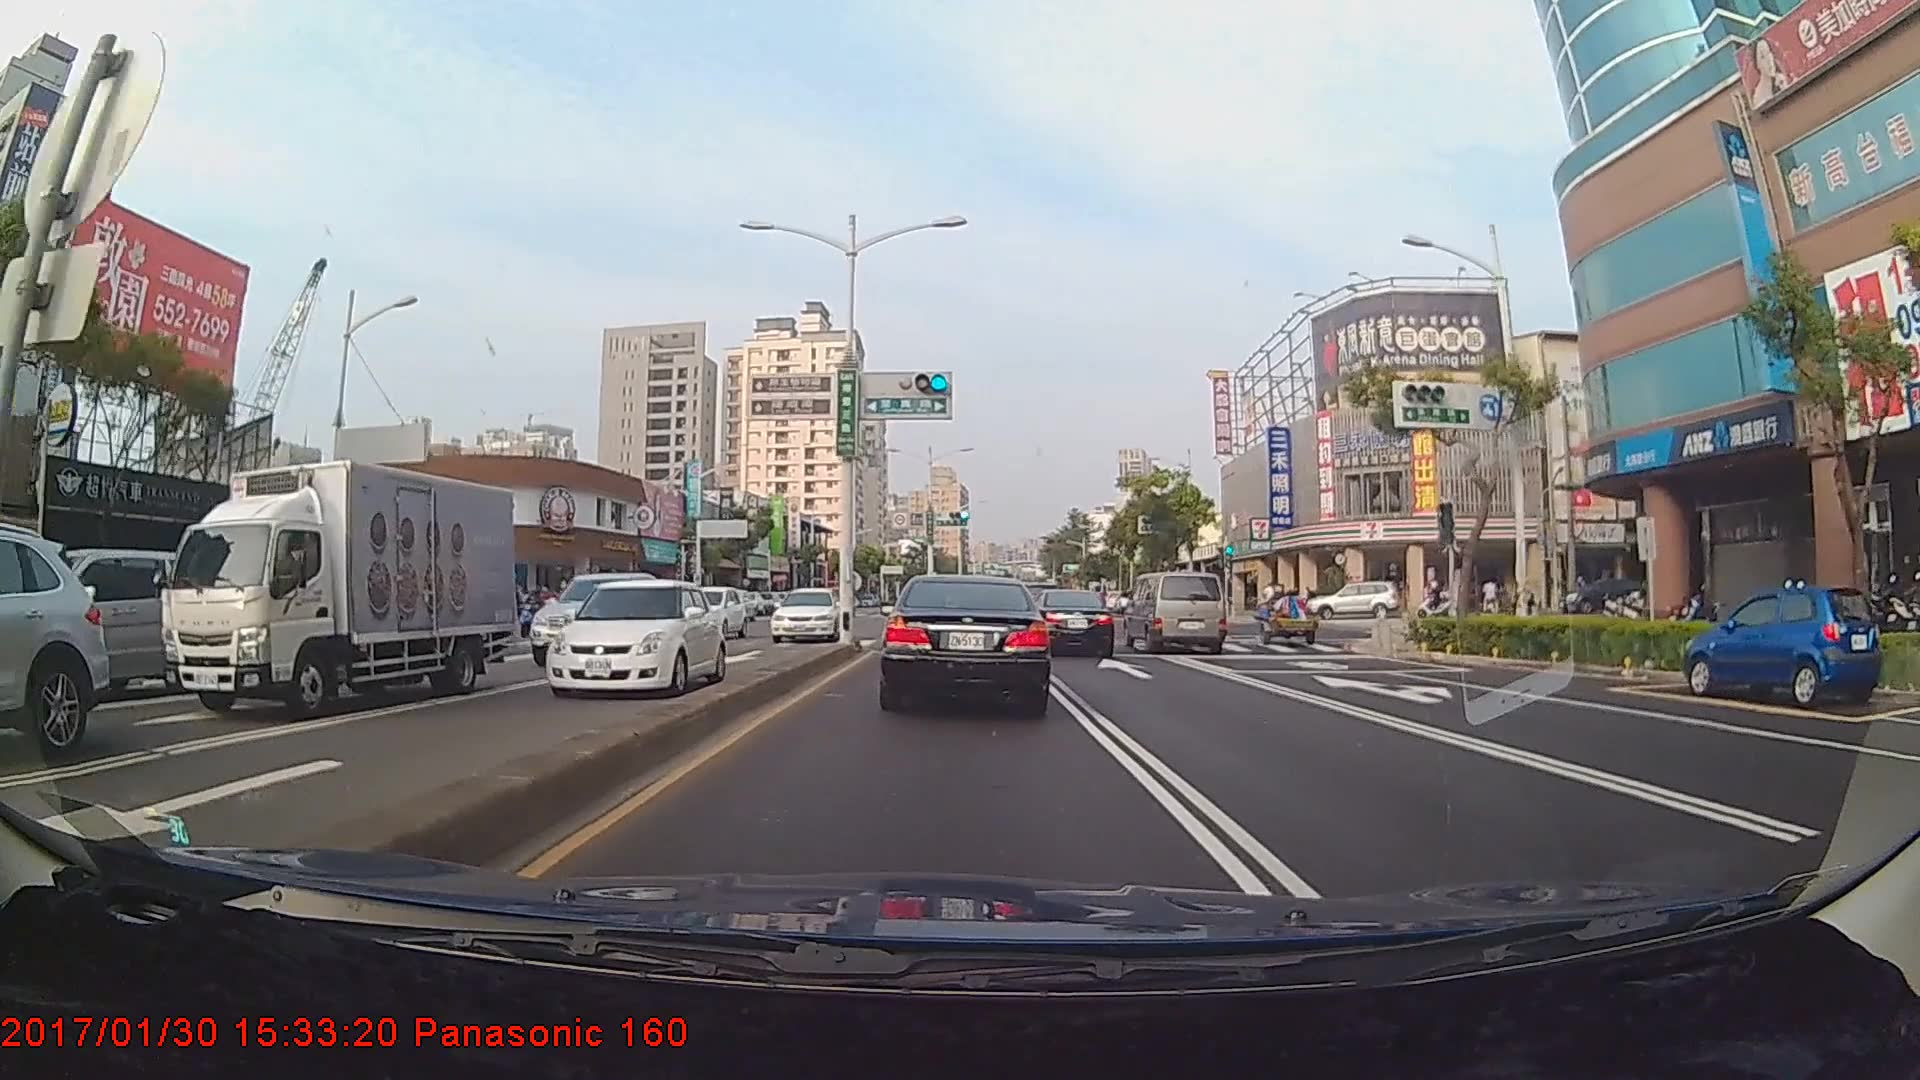vehicle: (149, 451, 521, 723), (9, 545, 208, 694), (0, 518, 104, 774), (1683, 582, 1882, 709), (882, 570, 1051, 713), (542, 578, 727, 698), (524, 566, 666, 665), (1126, 571, 1228, 655), (1031, 589, 1114, 657), (760, 584, 839, 644), (667, 583, 744, 640), (1302, 582, 1403, 621)
